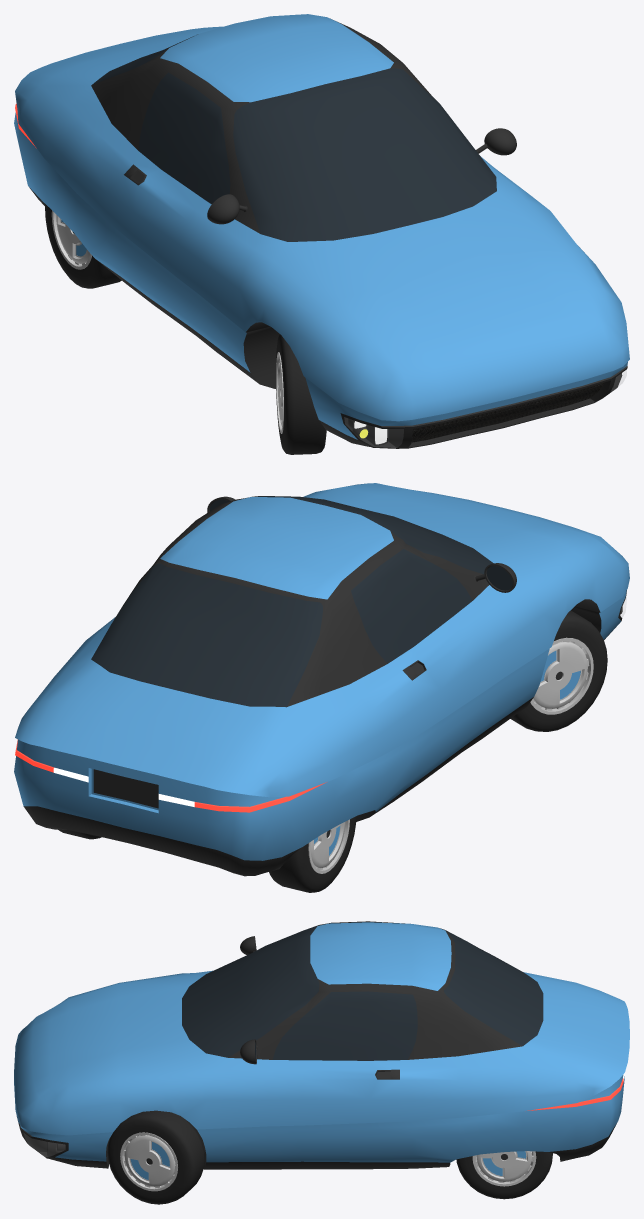
File: car-0.glb
3 views of the same model, one above another, from view 1: azimuth 30°, elevation 25°; view 2: azimuth 150°, elevation 25°; view 3: azimuth 270°, elevation 25° (orthographic). The views are drawn at different scales.
Visible parts, largest first — view 1: CarBody, WheelFR, WheelRR; view 2: CarBody, WheelFR, WheelRR; view 3: CarBody, WheelFL, WheelRL.
Boxes of the visible parts, x1=… form: CarBody: x1=14, y1=14, x2=629, y2=448; WheelFR: x1=276, y1=334, x2=326, y2=454; WheelRR: x1=45, y1=204, x2=121, y2=288; CarBody: x1=14, y1=483, x2=629, y2=876; WheelFR: x1=510, y1=610, x2=607, y2=731; WheelRR: x1=269, y1=816, x2=356, y2=892; CarBody: x1=14, y1=921, x2=629, y2=1169; WheelFL: x1=107, y1=1110, x2=204, y2=1204; WheelRL: x1=456, y1=1151, x2=552, y2=1199.
Bounding box in the file's own units: 2.05 × 1.61 × 4.4.
10 materials, 1 textured.
